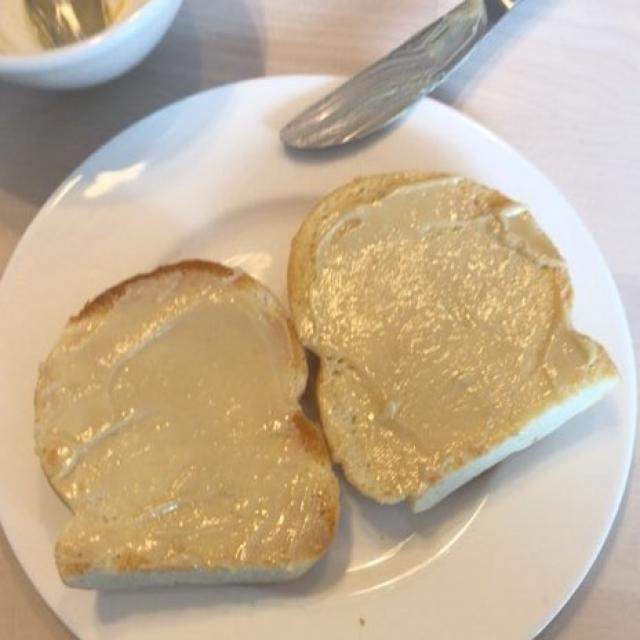bread: (20, 176, 618, 590)
butter: (50, 171, 578, 576)
